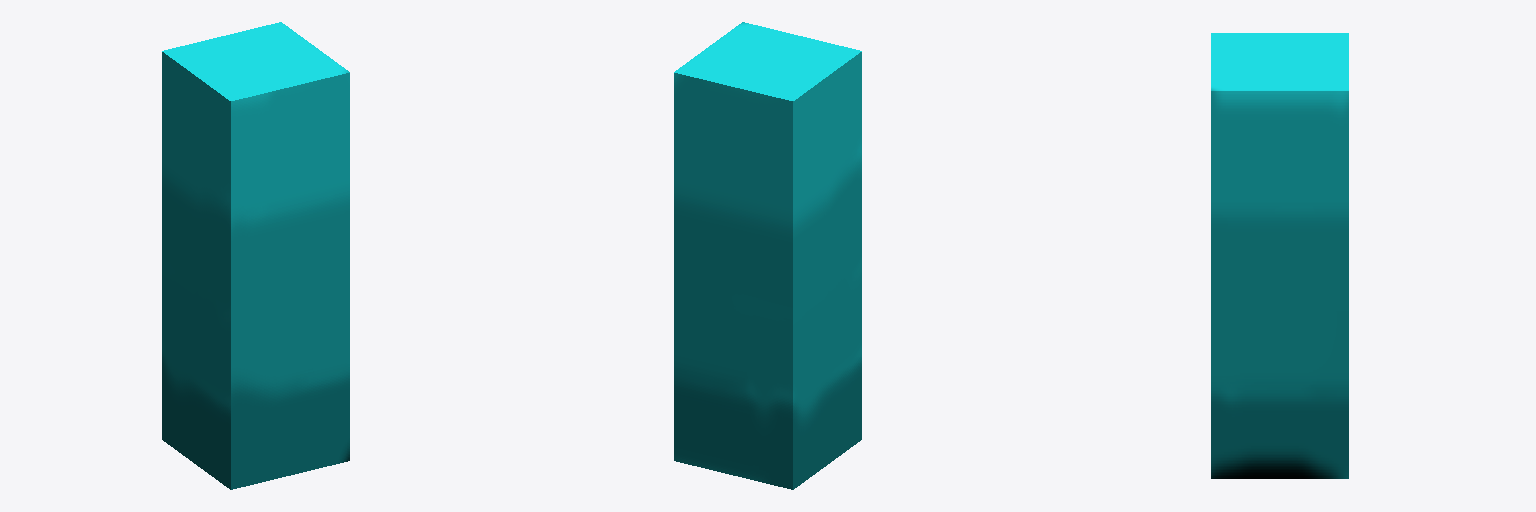
The picture shows the model from 3 angles: view 1: azimuth 30°, elevation 25°; view 2: azimuth 150°, elevation 25°; view 3: azimuth 270°, elevation 25°; orthographic projection.
Parts seen in each view (by area): view 1: Cube; view 2: Cube; view 3: Cube.
Part boxes in pixels (x1,y1,x2,y2): Cube: (162, 22, 349, 489); Cube: (674, 22, 861, 489); Cube: (1211, 33, 1348, 478).
Bounding box in the file's own units: 2 × 6.21 × 2.
Materials: 1 (1 with a texture image).